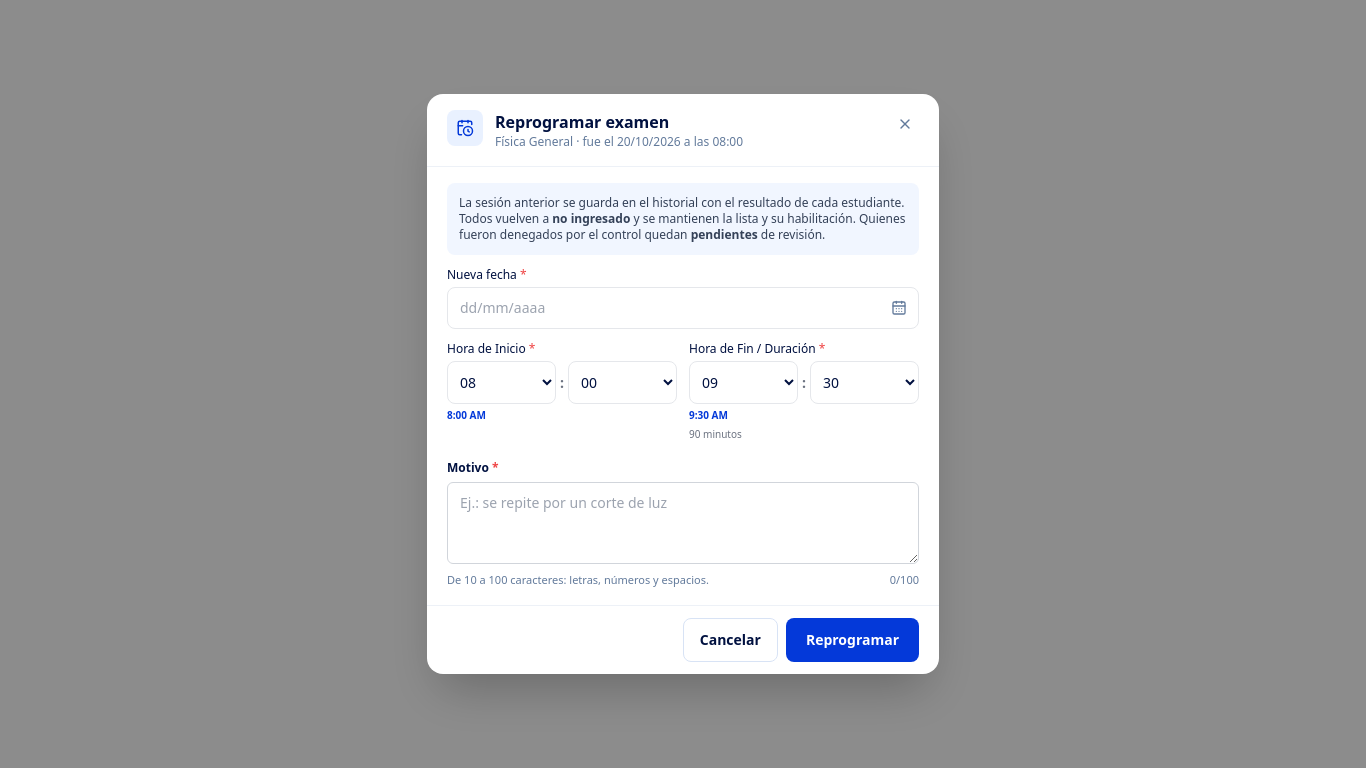
it: Reprogramar examen › muestra el mensaje del servidor si no se puede reprogramar
Type "10012099" into the field labelled "Nueva fecha".
click(683, 308); type("10012099")  # box top-left (447, 287), bottom-right (919, 329)
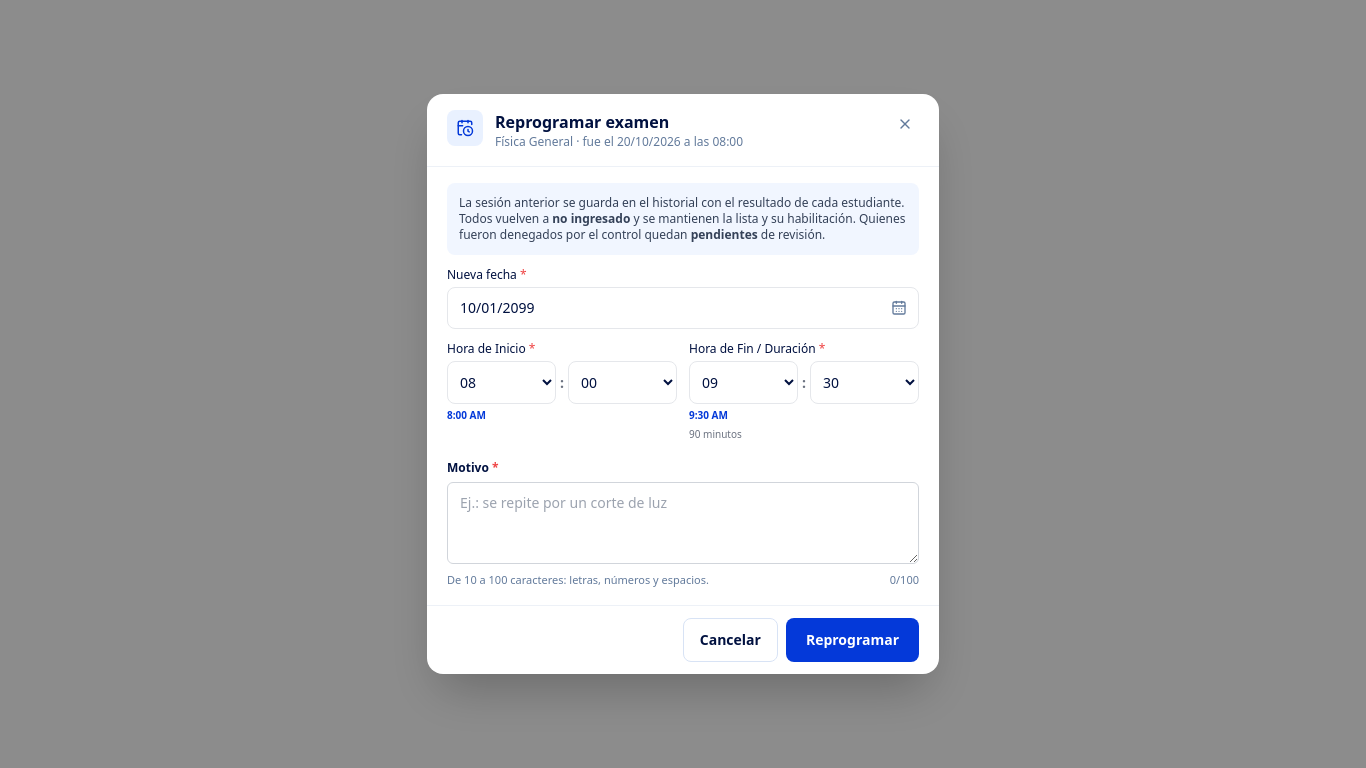
Type "Se repite el examen" into the text box labelled "Motivo *".
click(683, 523); type("Se repite el examen")  # box top-left (447, 482), bottom-right (919, 564)
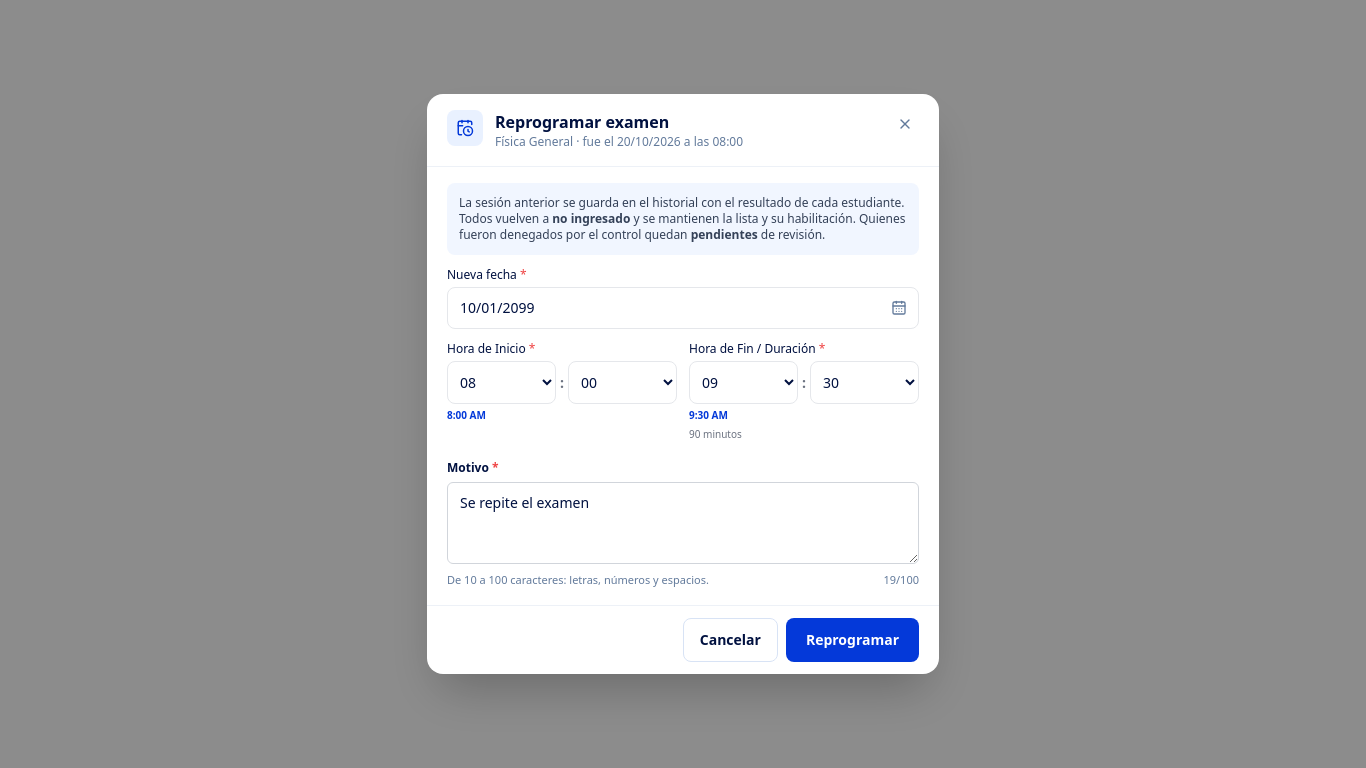
Click the button "Reprogramar".
click(852, 640)  # box top-left (786, 618), bottom-right (919, 662)
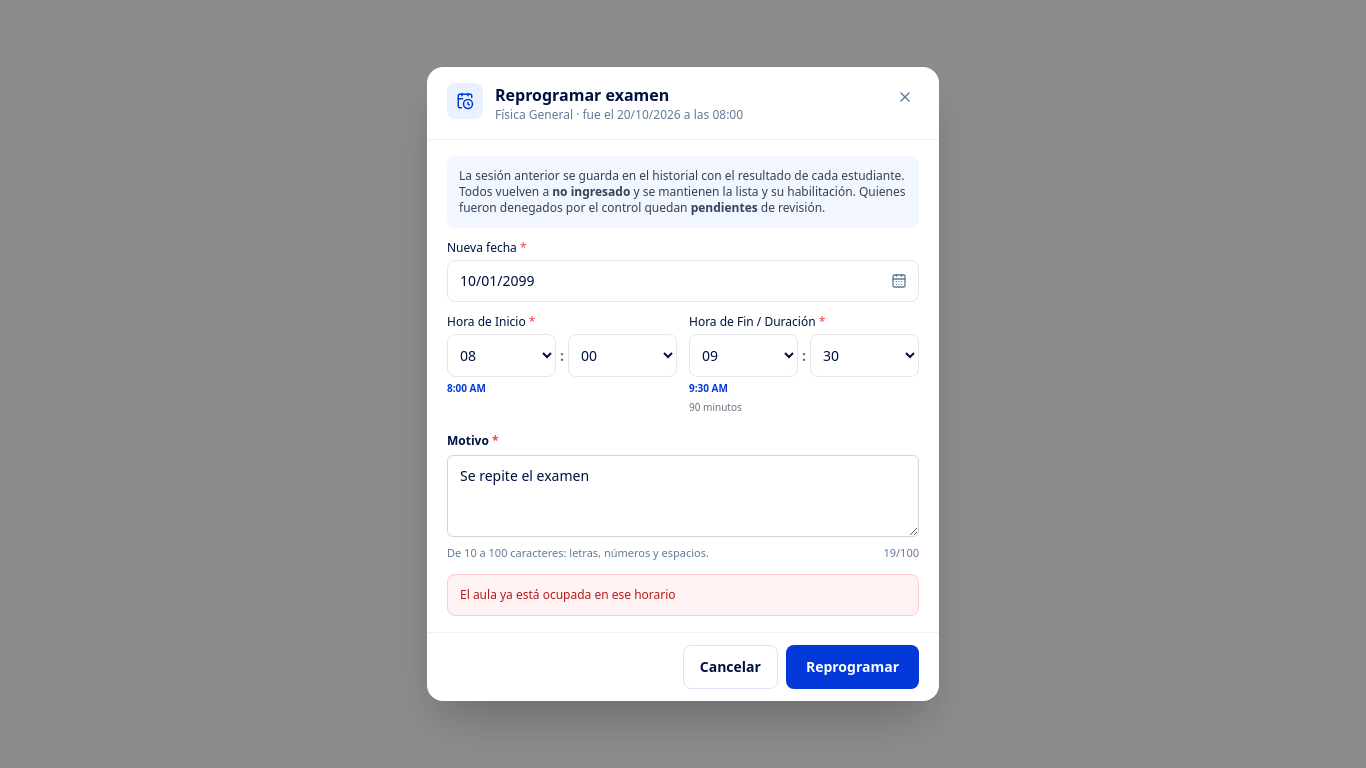
Expected: the message reads "El aula ya está ocupada en ese horario", top-left (460, 586), bottom-right (676, 603)
